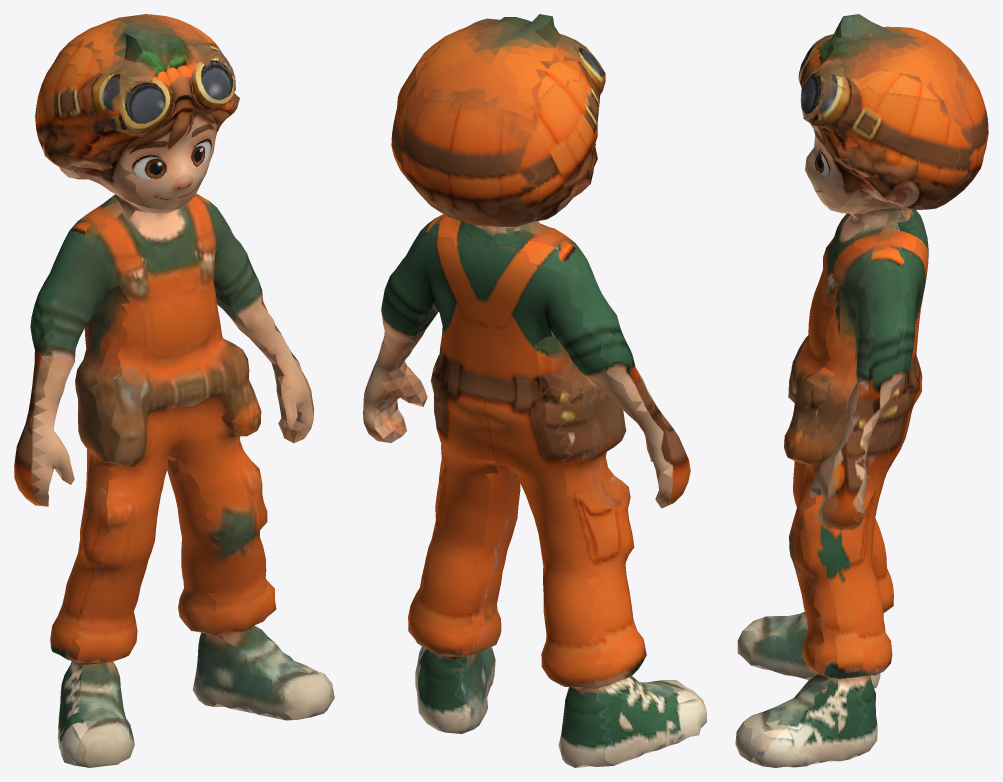
Rendered from tinker-pumpkin-toon.glb.
3 views of the same model, side by side, from view 1: azimuth 30°, elevation 25°; view 2: azimuth 150°, elevation 25°; view 3: azimuth 270°, elevation 25° (orthographic). The views are drawn at different scales.
Visible parts, largest first — view 1: world; view 2: world; view 3: world.
Boxes of the visible parts, x1,y1,x2,y2 form: world: (14, 14, 334, 767); world: (363, 14, 706, 767); world: (735, 14, 988, 767).
Bounding box in the file's own units: 0.4212 × 0.9386 × 0.3117.
1 material, 1 textured.
